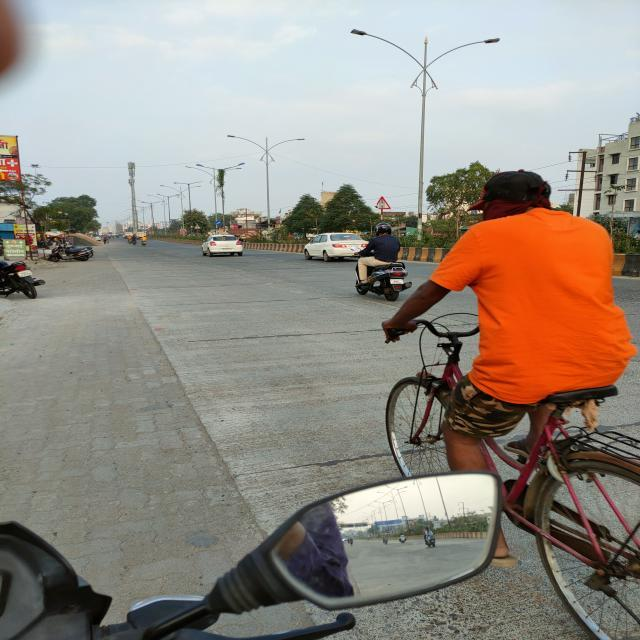gap in median: (376, 197, 393, 211)
